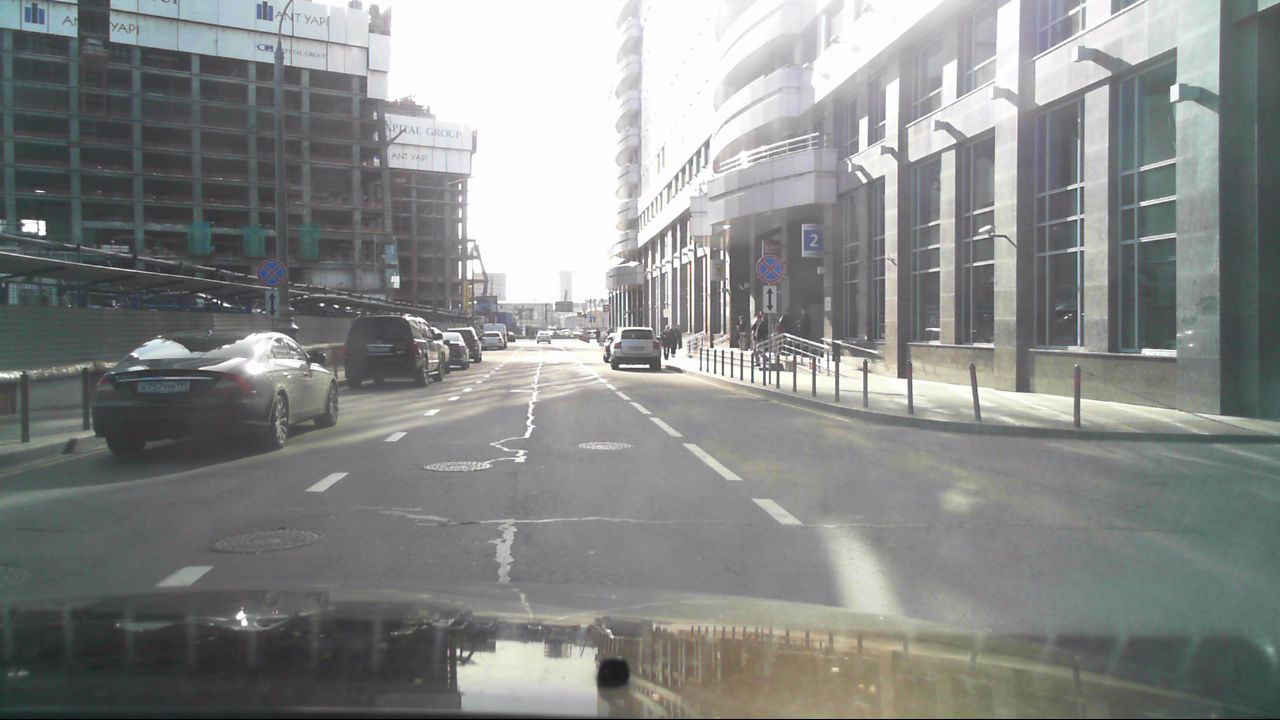No Parking: (756, 254, 784, 284)
